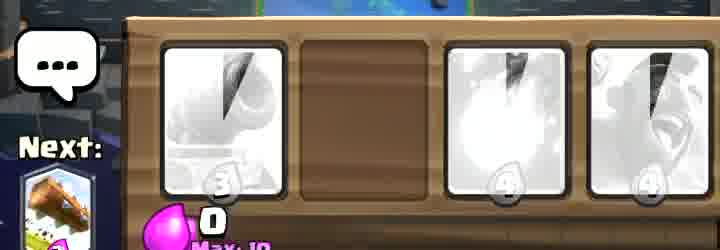log: (24, 168, 93, 250)
